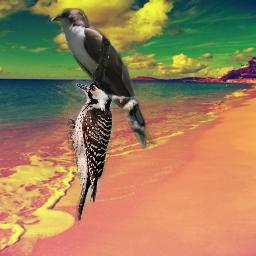Cuckoo: (51, 8, 158, 150)
Woodpecker: (67, 78, 115, 226)
